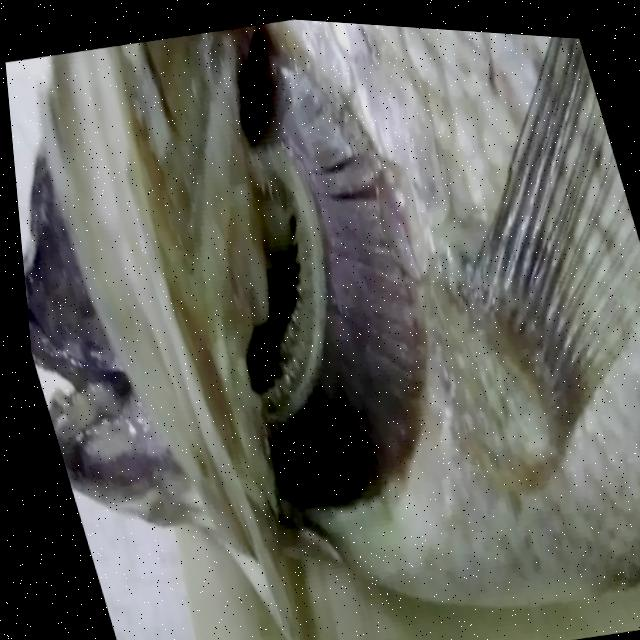Non-Fresh: (169, 38, 482, 523)
